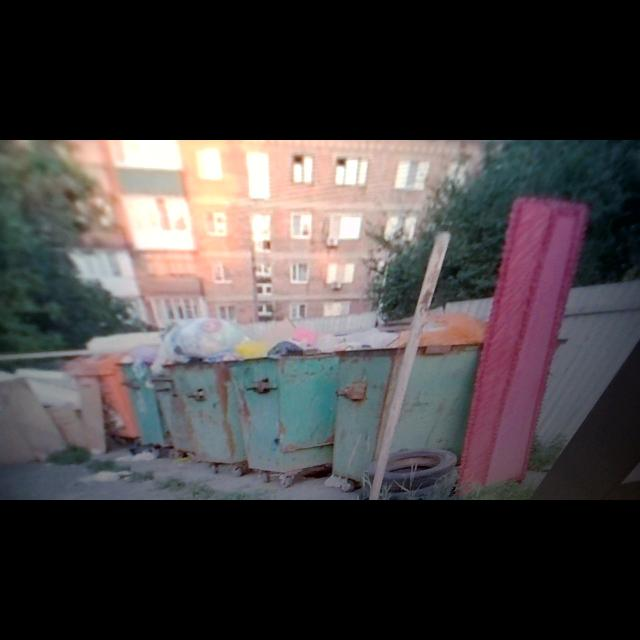Trash_Can_Full: (333, 312, 483, 483), (228, 321, 333, 471), (163, 314, 248, 464)
